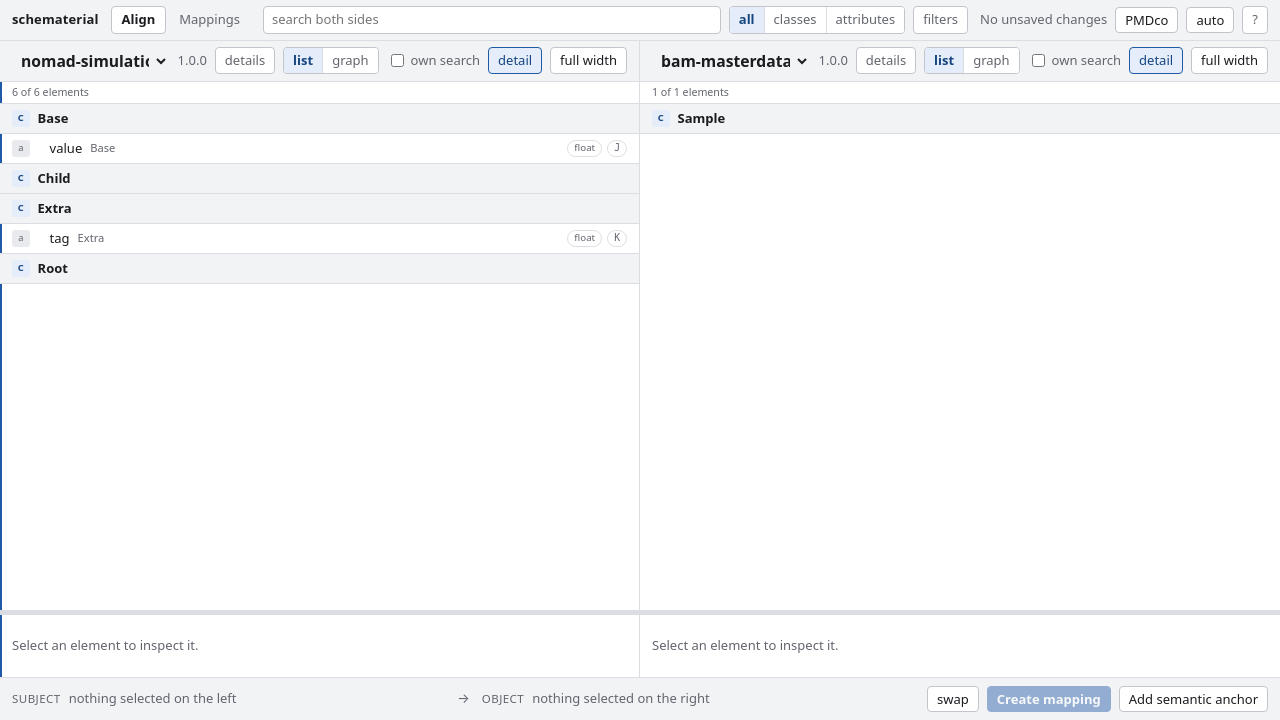
Test case: the class graph › gives one side the whole window and hands it back on Escape
The image size is (1280, 720).
Expected: the list named "elements of nomad_fixture on the left" is shown, [0,104,639,284]
Click the 1st button "graph" at (350, 61), box [323,48,378,73]
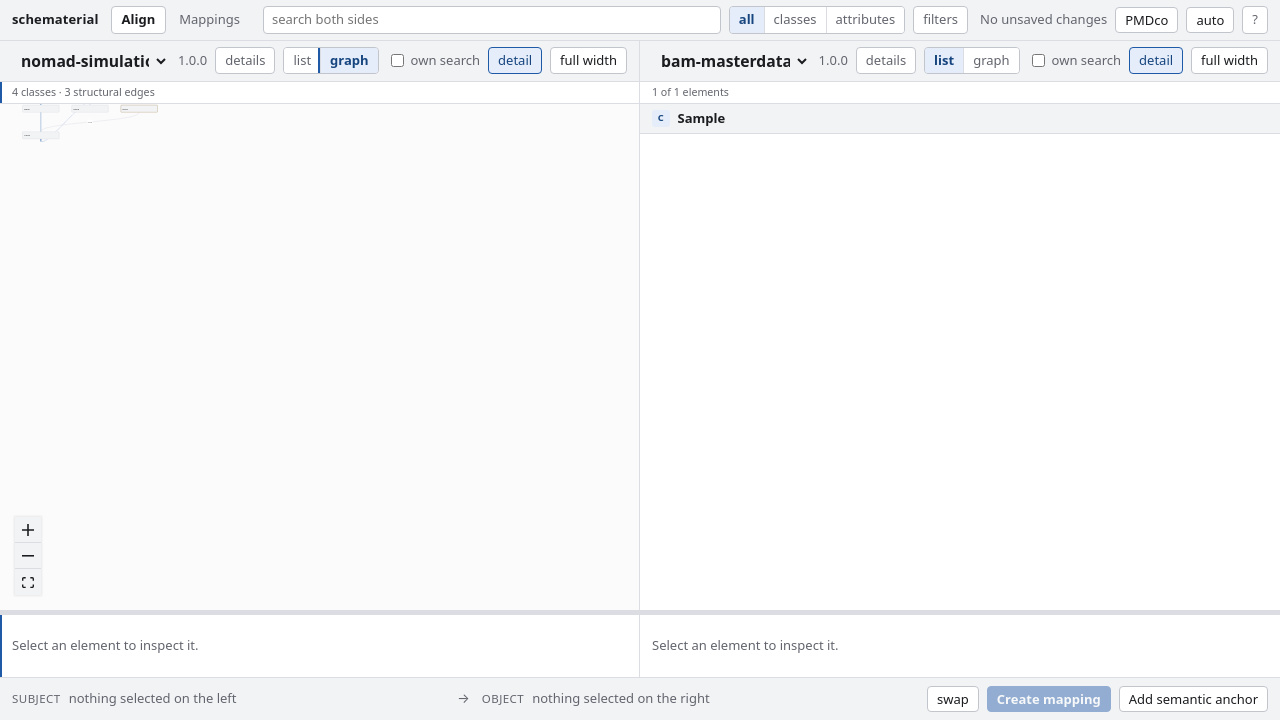
Click the button with aria-label "expand the left side" at (589, 60), box [550,47,627,74]
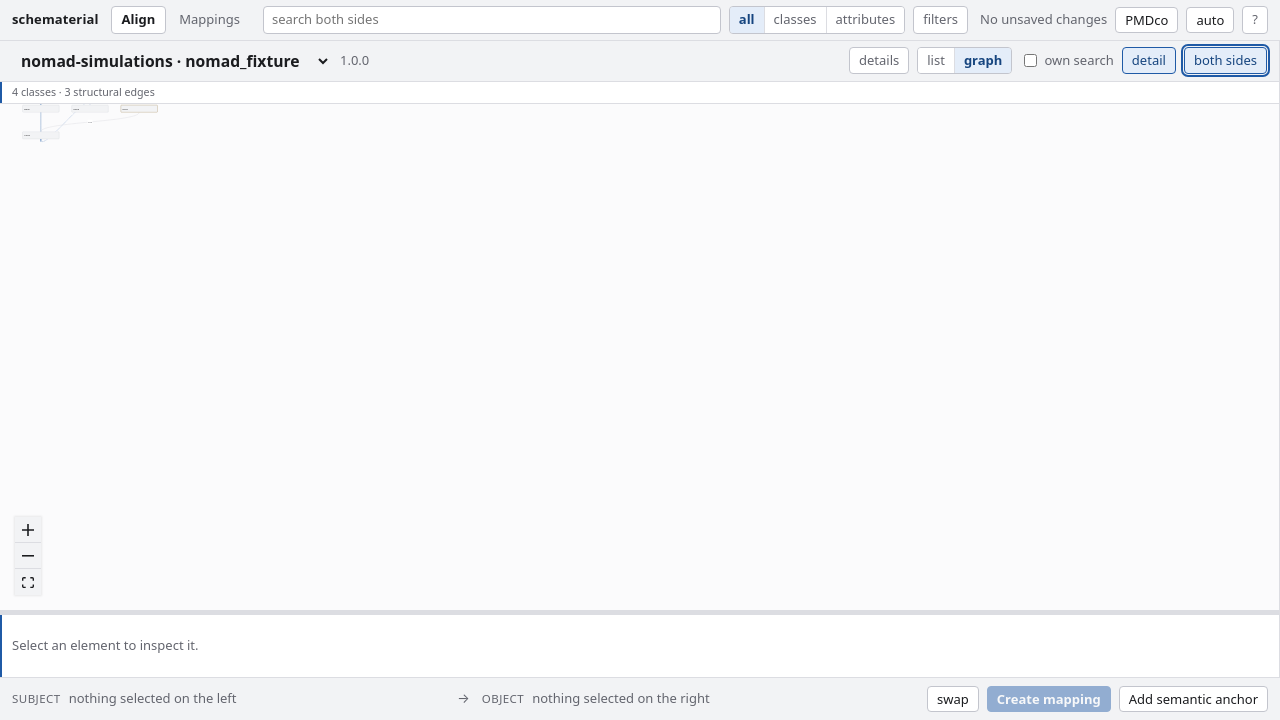
Press Escape
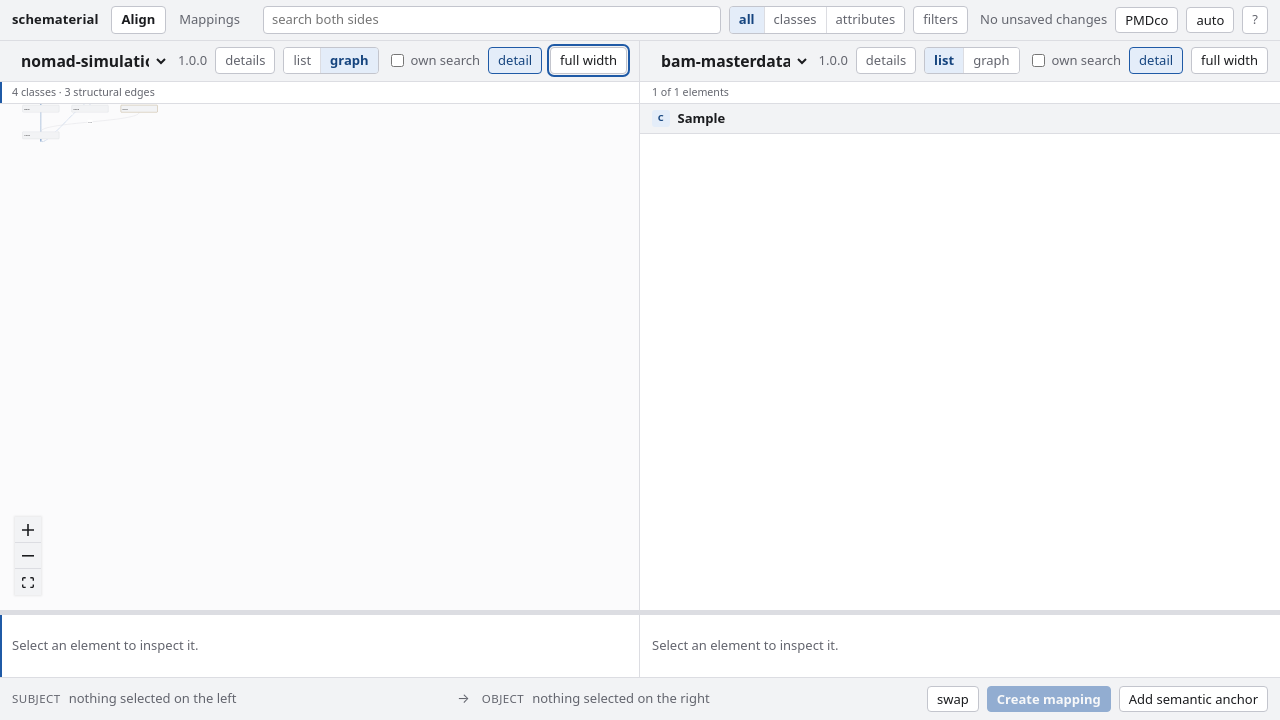
Now the element named "right side" is shown, box [640,40,1279,677]
Now the button with aria-label "expand the left side" is shown, box [550,47,627,74]
